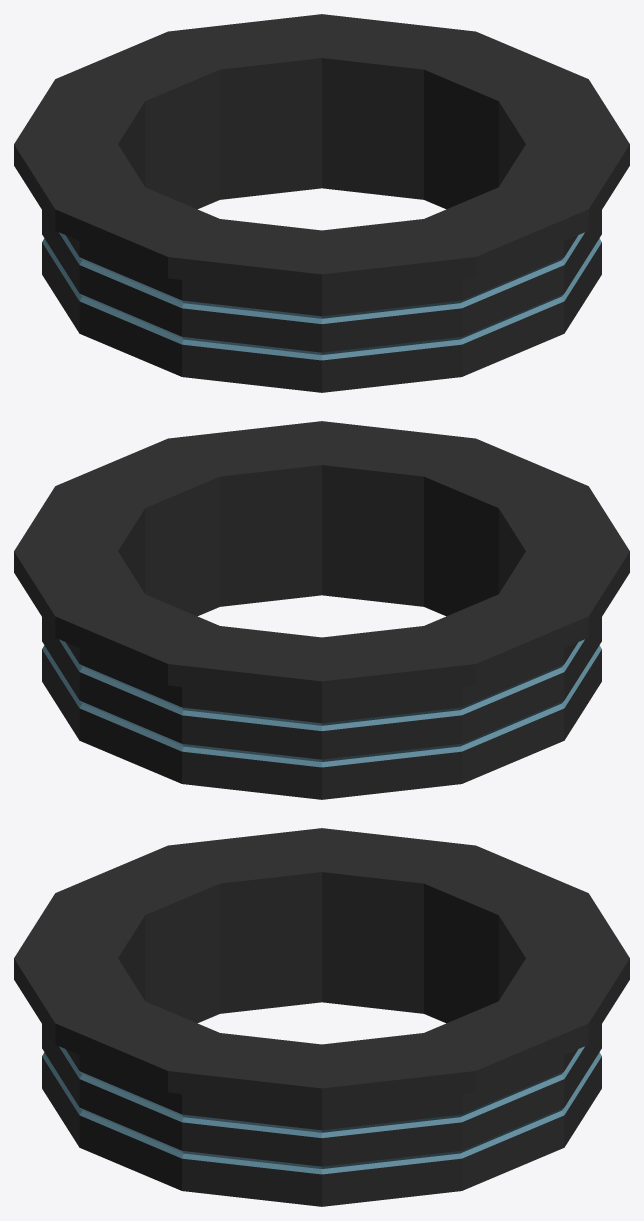
File: SM_Bldg_City_Airport_Generic_01.fbx
3 views of the same model, one above another, from view 1: azimuth 30°, elevation 25°; view 2: azimuth 150°, elevation 25°; view 3: azimuth 270°, elevation 25° (orthographic).
Parts seen in each view (by area): view 1: SM_Bldg_City_Airport_Generic_01; view 2: SM_Bldg_City_Airport_Generic_01; view 3: SM_Bldg_City_Airport_Generic_01.
Part boxes in pixels (x1,y1,x2,y2): SM_Bldg_City_Airport_Generic_01: [14, 14, 629, 392]; SM_Bldg_City_Airport_Generic_01: [14, 421, 629, 799]; SM_Bldg_City_Airport_Generic_01: [14, 828, 629, 1206].
Bounding box in the file's own units: 523 × 122 × 523.
